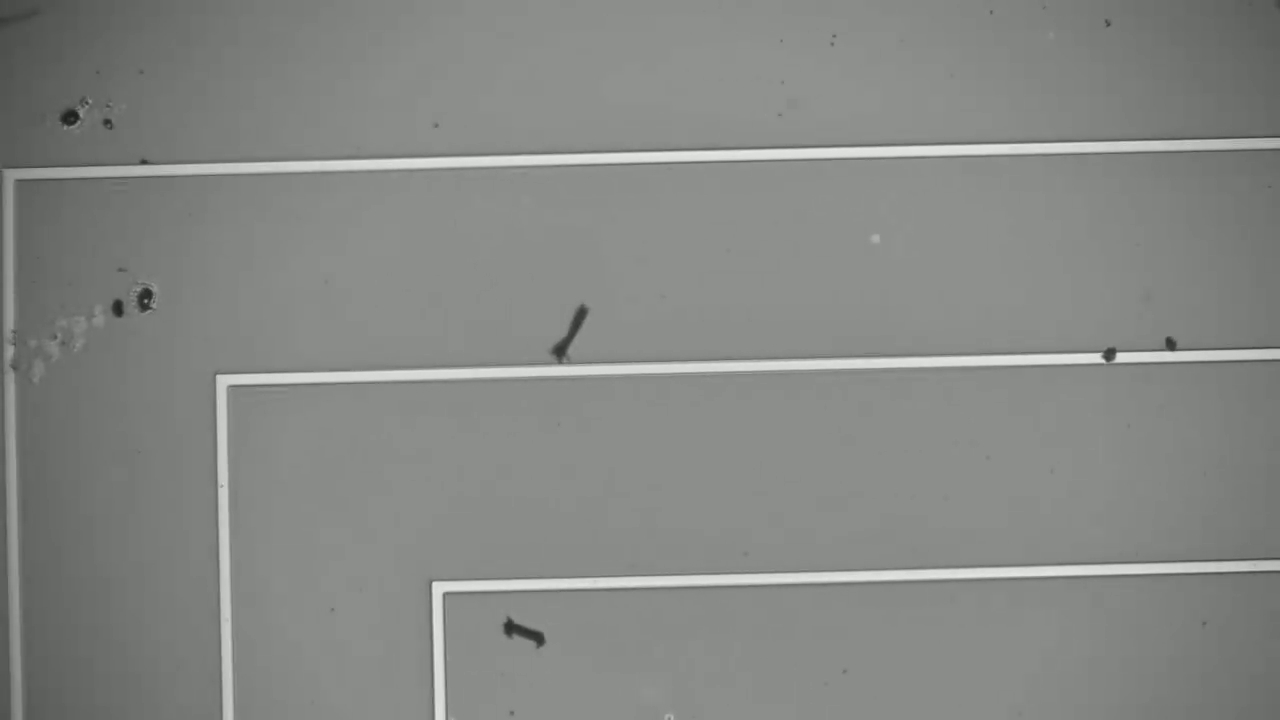stains_enbedded: (1097, 338, 1123, 369)
